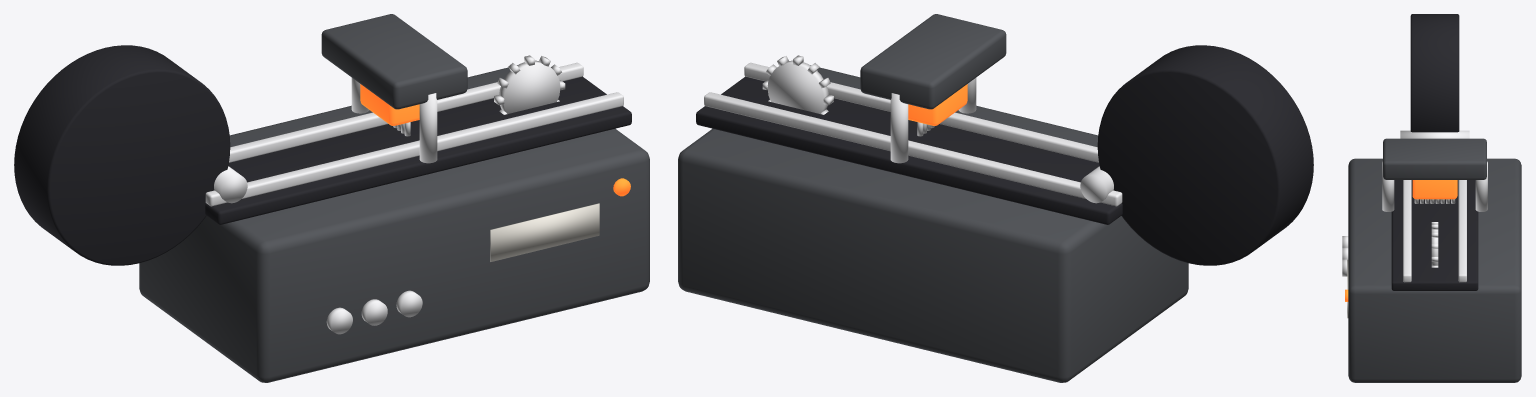
The picture shows the model from 3 angles, left to right: view 1: azimuth 30°, elevation 25°; view 2: azimuth 150°, elevation 25°; view 3: azimuth 270°, elevation 25°; orthographic projection. The views are drawn at different scales.
Parts seen in each view (by area): view 1: body, reel, deck, bridge, guide_r, guide_l, label, sprocket, post_r, punch, roller_in, knob_2 (+2 smaller); view 2: body, reel, deck, bridge, guide_l, guide_r, sprocket, post_l, punch, roller_in; view 3: body, deck, reel, bridge, guide_l, guide_r, punch, roller_in, post_l, post_r, sprocket.
Part boxes in pixels (<box>): body: <box>139,65,649,382</box>; reel: <box>14,45,230,265</box>; deck: <box>205,76,631,224</box>; bridge: <box>321,14,467,109</box>; guide_r: <box>205,92,623,206</box>; guide_l: <box>229,62,583,162</box>; label: <box>490,203,599,261</box>; sprocket: <box>499,60,560,113</box>; post_r: <box>419,93,437,163</box>; punch: <box>360,84,419,125</box>; roller_in: <box>214,166,247,203</box>; knob_2: <box>396,290,422,317</box>; body: <box>678,65,1188,382</box>; reel: <box>1097,45,1313,265</box>; deck: <box>696,76,1122,224</box>; bridge: <box>860,14,1006,109</box>; guide_l: <box>704,92,1122,206</box>; guide_r: <box>744,62,1098,162</box>; sprocket: <box>767,60,828,114</box>; post_l: <box>890,93,908,163</box>; punch: <box>908,84,967,125</box>; roller_in: <box>1080,166,1113,203</box>; body: <box>1348,158,1521,382</box>; deck: <box>1391,180,1478,290</box>; reel: <box>1410,14,1459,132</box>; bridge: <box>1383,138,1486,179</box>; guide_l: <box>1458,180,1466,282</box>; guide_r: <box>1403,180,1411,282</box>; punch: <box>1412,180,1457,199</box>; roller_in: <box>1400,130,1469,138</box>; post_l: <box>1475,161,1487,211</box>; post_r: <box>1382,161,1394,211</box>; sprocket: <box>1431,229,1438,265</box>.
Size of the model in its own units: 2.62 by 1.32 by 1.03.
